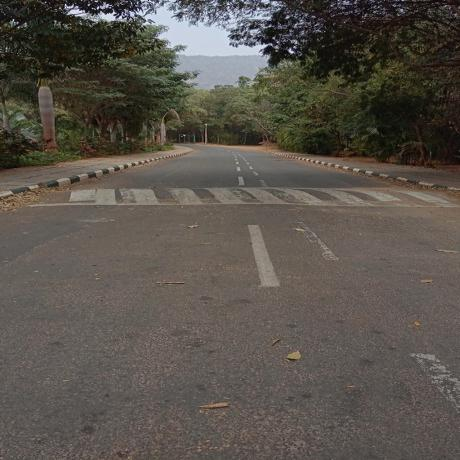Speed Bump: (11, 187, 458, 204)
